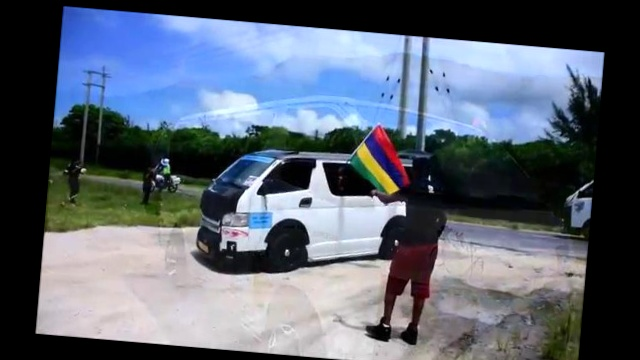van: (186, 133, 440, 289)
